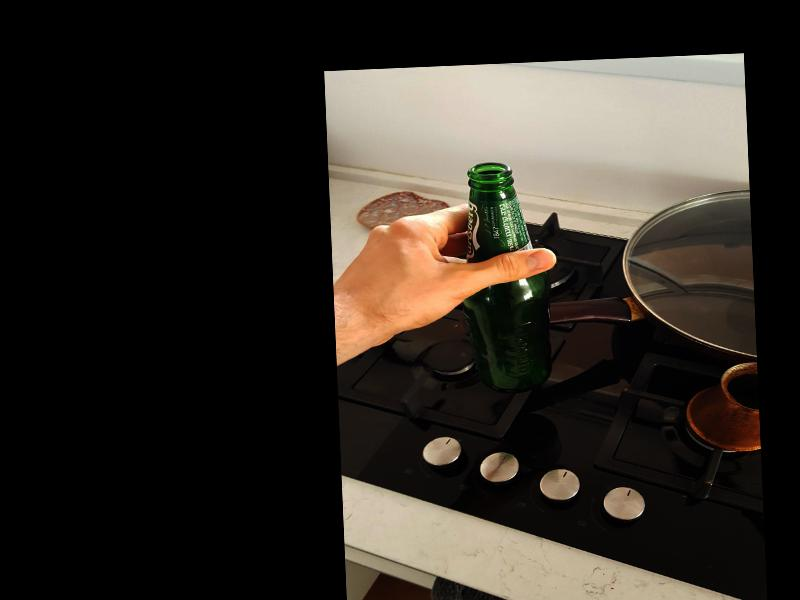Beer: (465, 162, 552, 394)
